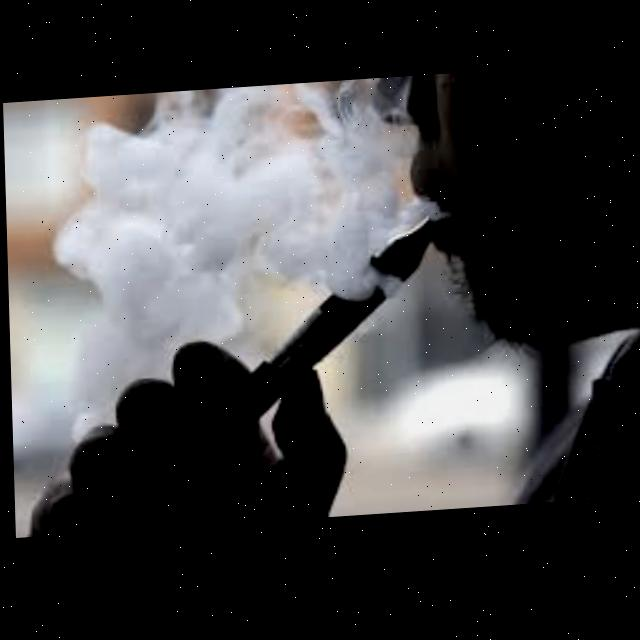vape: (246, 223, 442, 422)
